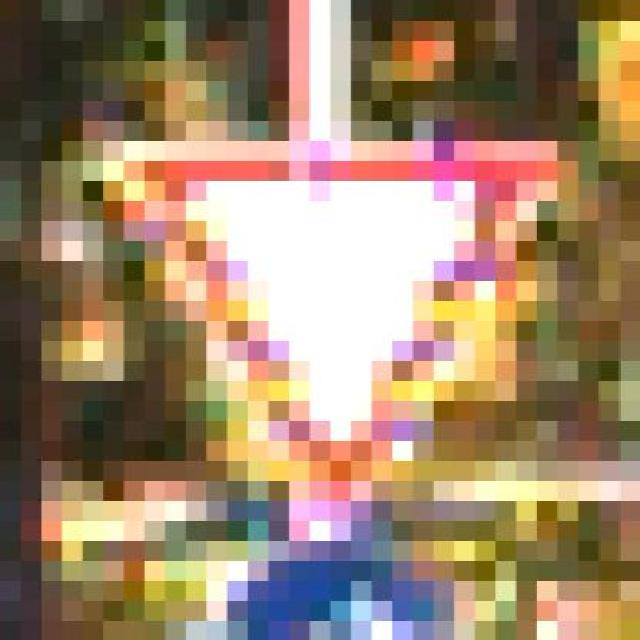Give Way: (99, 117, 573, 497)
